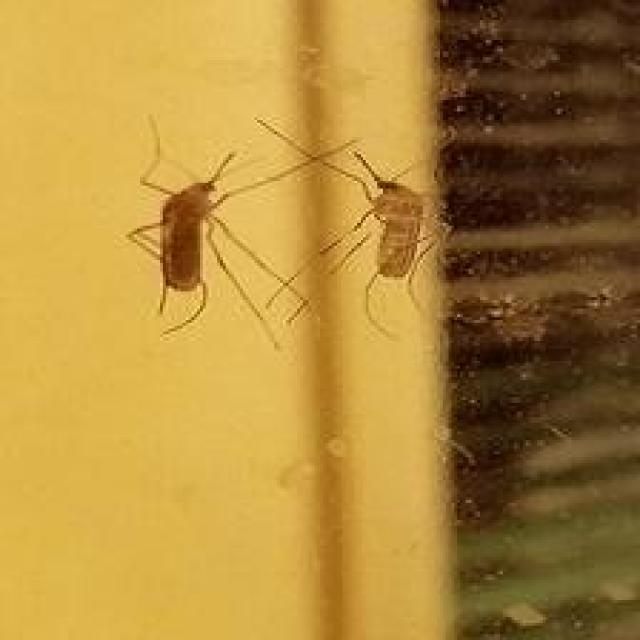Culex: (254, 115, 443, 338)
